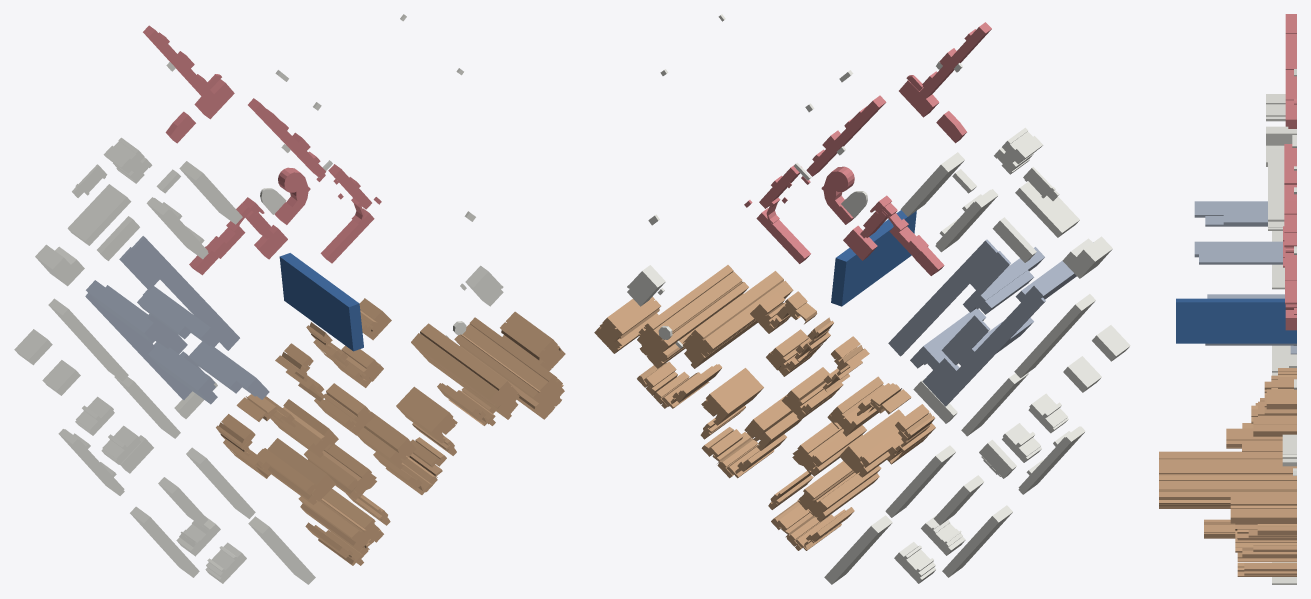
3 views of the same model, side by side, from view 1: azimuth 30°, elevation 25°; view 2: azimuth 150°, elevation 25°; view 3: azimuth 270°, elevation 25° (orthographic). The views are drawn at different scales.
Visible parts, largest first — view 1: sibeom_0043, hwarang_0000, sibeom_0039, daegyo_0013, sibeom_0038, school_0065, sibeom_0037, sibeom_0044, context_0082, sibeom_0041, sibeom_0035, sibeom_0032 (+34 smaller); view 2: sibeom_0043, sibeom_0039, hwarang_0000, daegyo_0013, daegyo_0017, sibeom_0038, school_0065, sibeom_0044, sibeom_0037, sibeom_0041, context_0082, sibeom_0035 (+39 smaller); view 3: hwarang_0000, sibeom_0043, sibeom_0039, sibeom_0044, school_0065, school_0064, daegyo_0004, context_0091, daegyo_0001, daegyo_0005, sibeom_0033, sibeom_0032 (+24 smaller).
Boxes of the visible parts, x1,y1,x2,y2 form: sibeom_0043: (454,317,564,419); hwarang_0000: (279,253,363,351); sibeom_0039: (411,323,519,419); daegyo_0013: (132,236,239,350); sibeom_0038: (298,489,380,551); school_0065: (143,25,234,119); sibeom_0037: (304,444,376,500); sibeom_0044: (500,311,565,371); context_0082: (67,184,131,245); sibeom_0041: (396,386,457,443); sibeom_0035: (267,438,335,504); sibeom_0032: (270,399,338,457); sibeom_0043: (637,265,748,368); sibeom_0039: (682,271,793,368); hwarang_0000: (831,210,916,306); daegyo_0013: (888,239,998,356); daegyo_0017: (935,290,1045,406); sibeom_0038: (797,461,881,521); school_0065: (899,22,991,117); sibeom_0044: (594,296,660,353); sibeom_0037: (792,422,866,476); sibeom_0041: (701,368,763,425); context_0082: (1015,181,1079,237); sibeom_0035: (839,409,904,477); hwarang_0000: (1176,298,1296,343); sibeom_0043: (1159,476,1296,508); sibeom_0039: (1159,451,1296,475); sibeom_0044: (1230,496,1296,523); school_0065: (1285,14,1296,126); school_0064: (1284,144,1296,247); daegyo_0004: (1194,241,1282,257); context_0091: (1268,156,1284,221); daegyo_0001: (1194,201,1267,217); daegyo_0005: (1199,254,1282,264); sibeom_0033: (1253,417,1296,436); sibeom_0032: (1226,428,1282,448).
Size of the model in its own units: 737 by 802 by 196.
